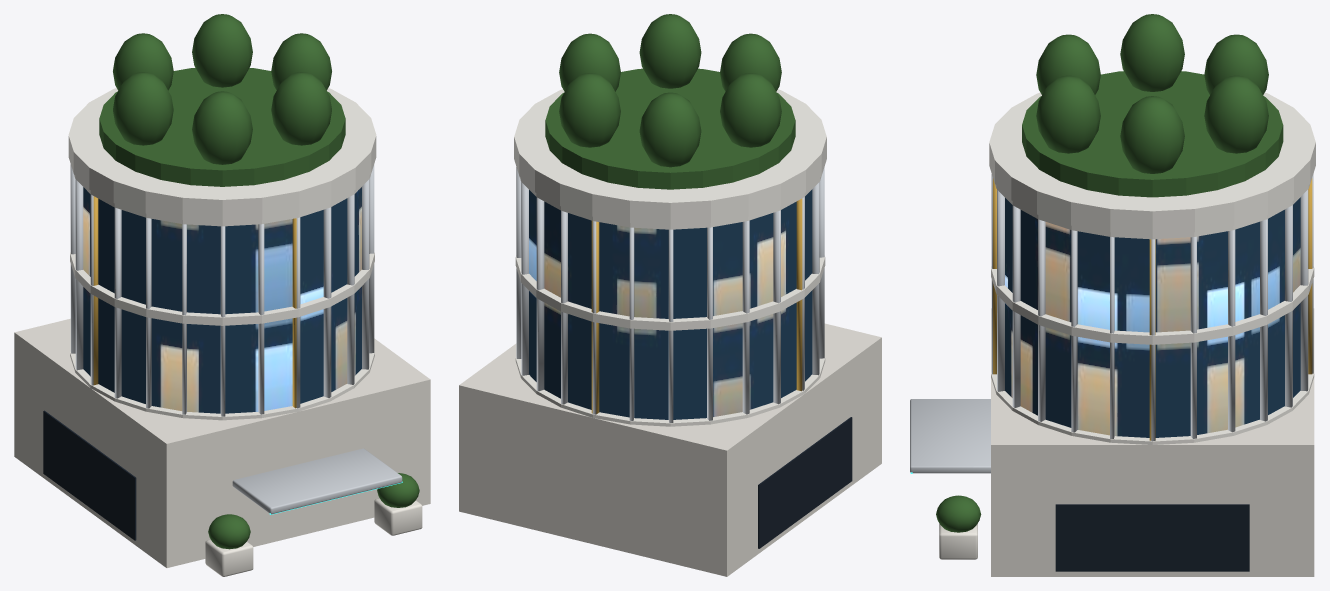
The model's file is nexus-terrace-b.glb.
The picture shows the model from 3 angles, left to right: view 1: azimuth 30°, elevation 25°; view 2: azimuth 150°, elevation 25°; view 3: azimuth 270°, elevation 25°; orthographic projection. The views are drawn at different scales.
Visible parts, largest first — view 1: Building; view 2: Building; view 3: Building.
Boxes of the visible parts, <box> form: Building: <box>14,14,430,576</box>; Building: <box>459,14,881,576</box>; Building: <box>910,14,1315,576</box>.
Bounding box in the file's own units: 10.1 × 15.4 × 12.55.
